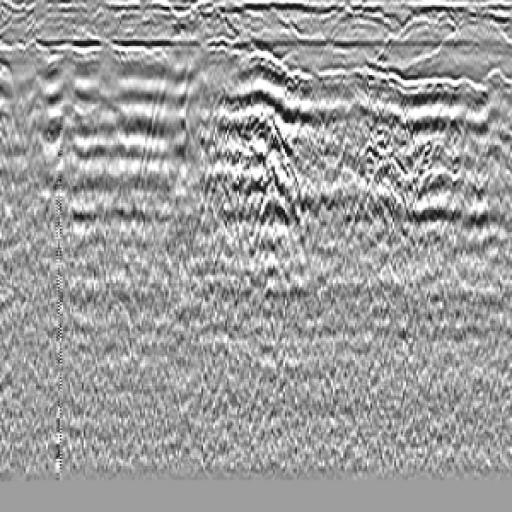metalic: (208, 24, 326, 333)
